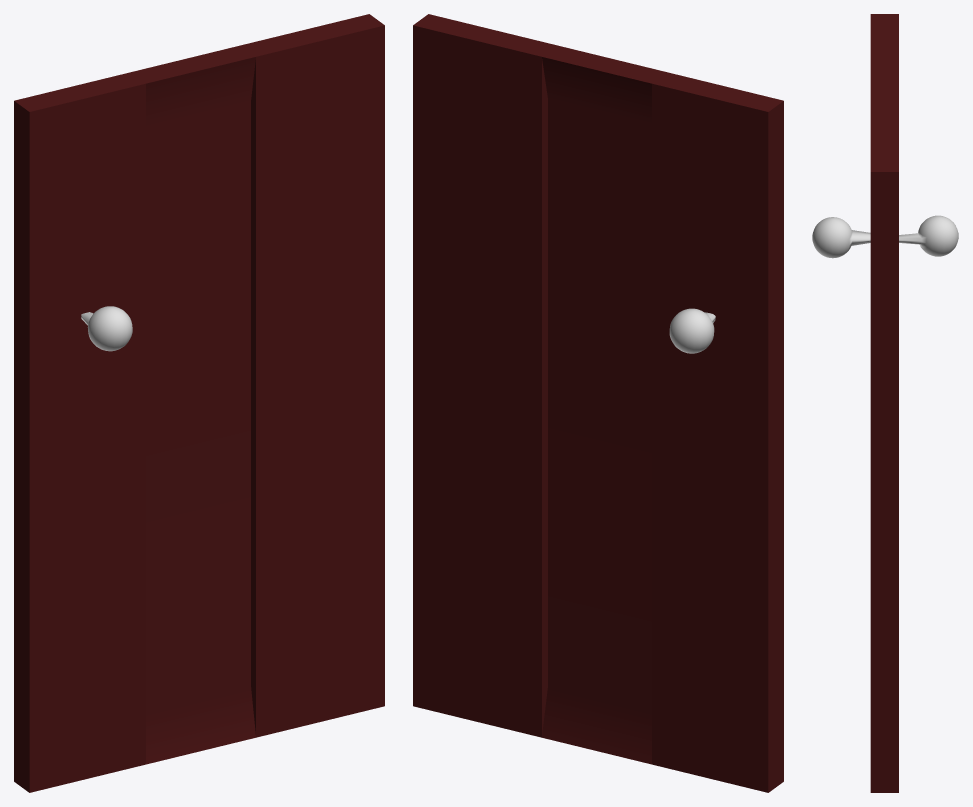
The model's file is Kapii.fbx.
The picture shows the model from 3 angles, left to right: view 1: azimuth 30°, elevation 25°; view 2: azimuth 150°, elevation 25°; view 3: azimuth 270°, elevation 25°; orthographic projection. The views are drawn at different scales.
Visible parts, largest first — view 1: polySurface1, polySurface2; view 2: polySurface1, polySurface3; view 3: polySurface1, polySurface2, polySurface3.
Boxes of the visible parts, bbox=[...] form: polySurface1: bbox=[14, 14, 384, 792]; polySurface2: bbox=[81, 306, 132, 351]; polySurface1: bbox=[413, 14, 783, 792]; polySurface3: bbox=[669, 308, 715, 353]; polySurface1: bbox=[870, 14, 898, 792]; polySurface2: bbox=[812, 217, 870, 258]; polySurface3: bbox=[899, 215, 958, 256].
Bounding box in the file's own units: 141 × 259 × 55.4.
